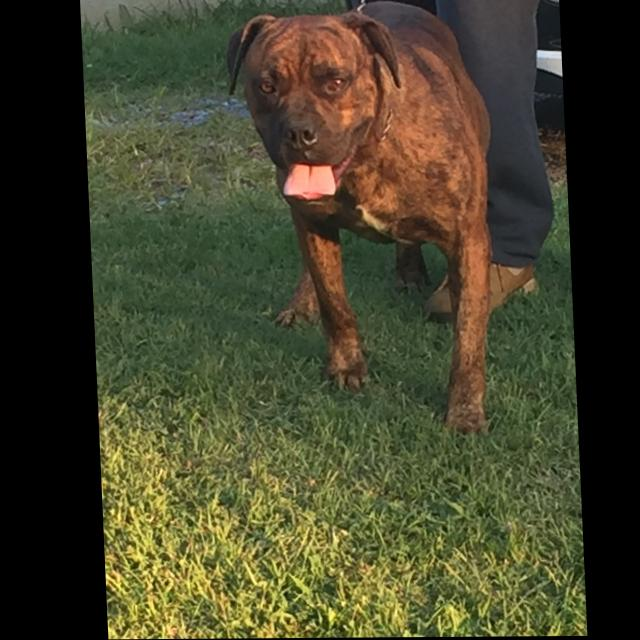am_pit_bull_terrier: (225, 1, 503, 437)
